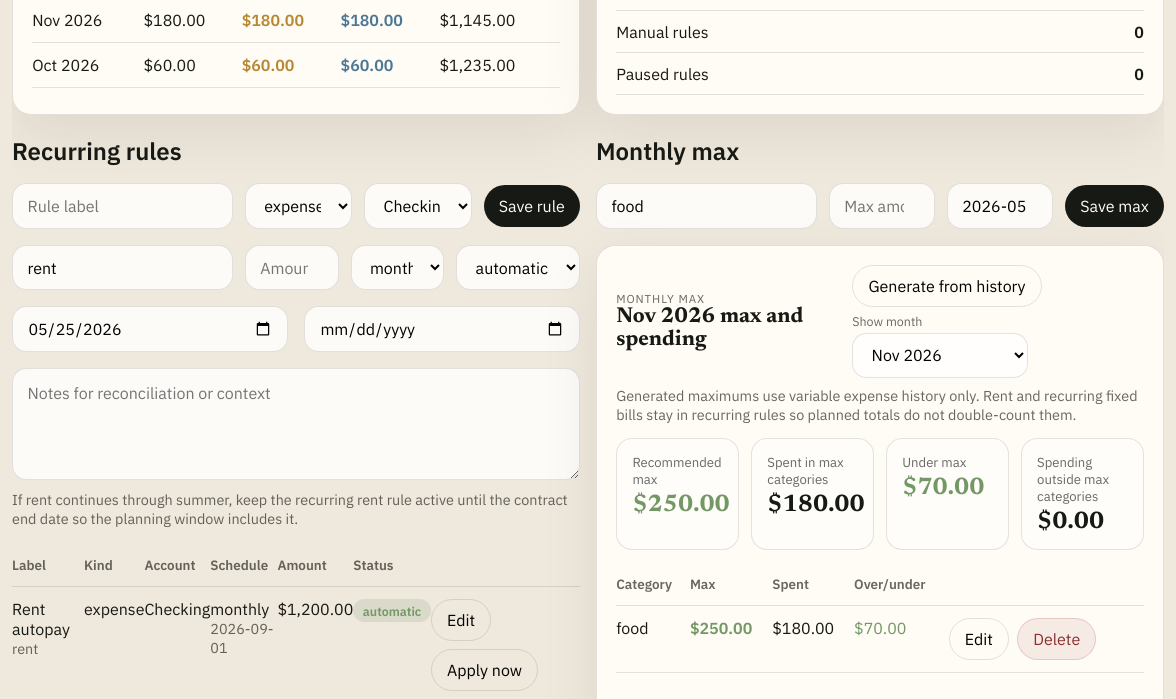
Test case: PlanPage › filters the cap table by selected month
This screenshot has width=1176, height=699.
(page scrolled)
Check: the text "Nov 2026 max and spending" is shown, box [616, 306, 803, 351]
Check: the text "food" is shown, box [616, 606, 690, 672]
Select "Oct 2026" in the dropdown labelled "Show month": (940, 356) [852, 333, 1028, 378]
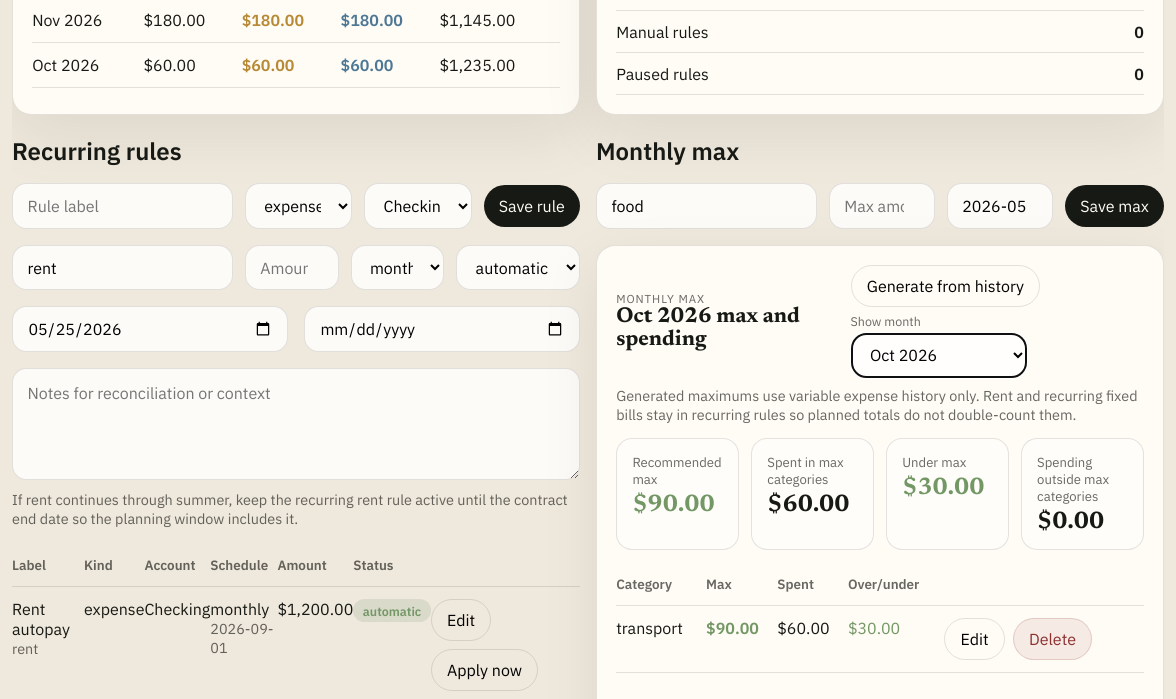
Check: the text "transport" is shown, box [616, 606, 706, 672]
